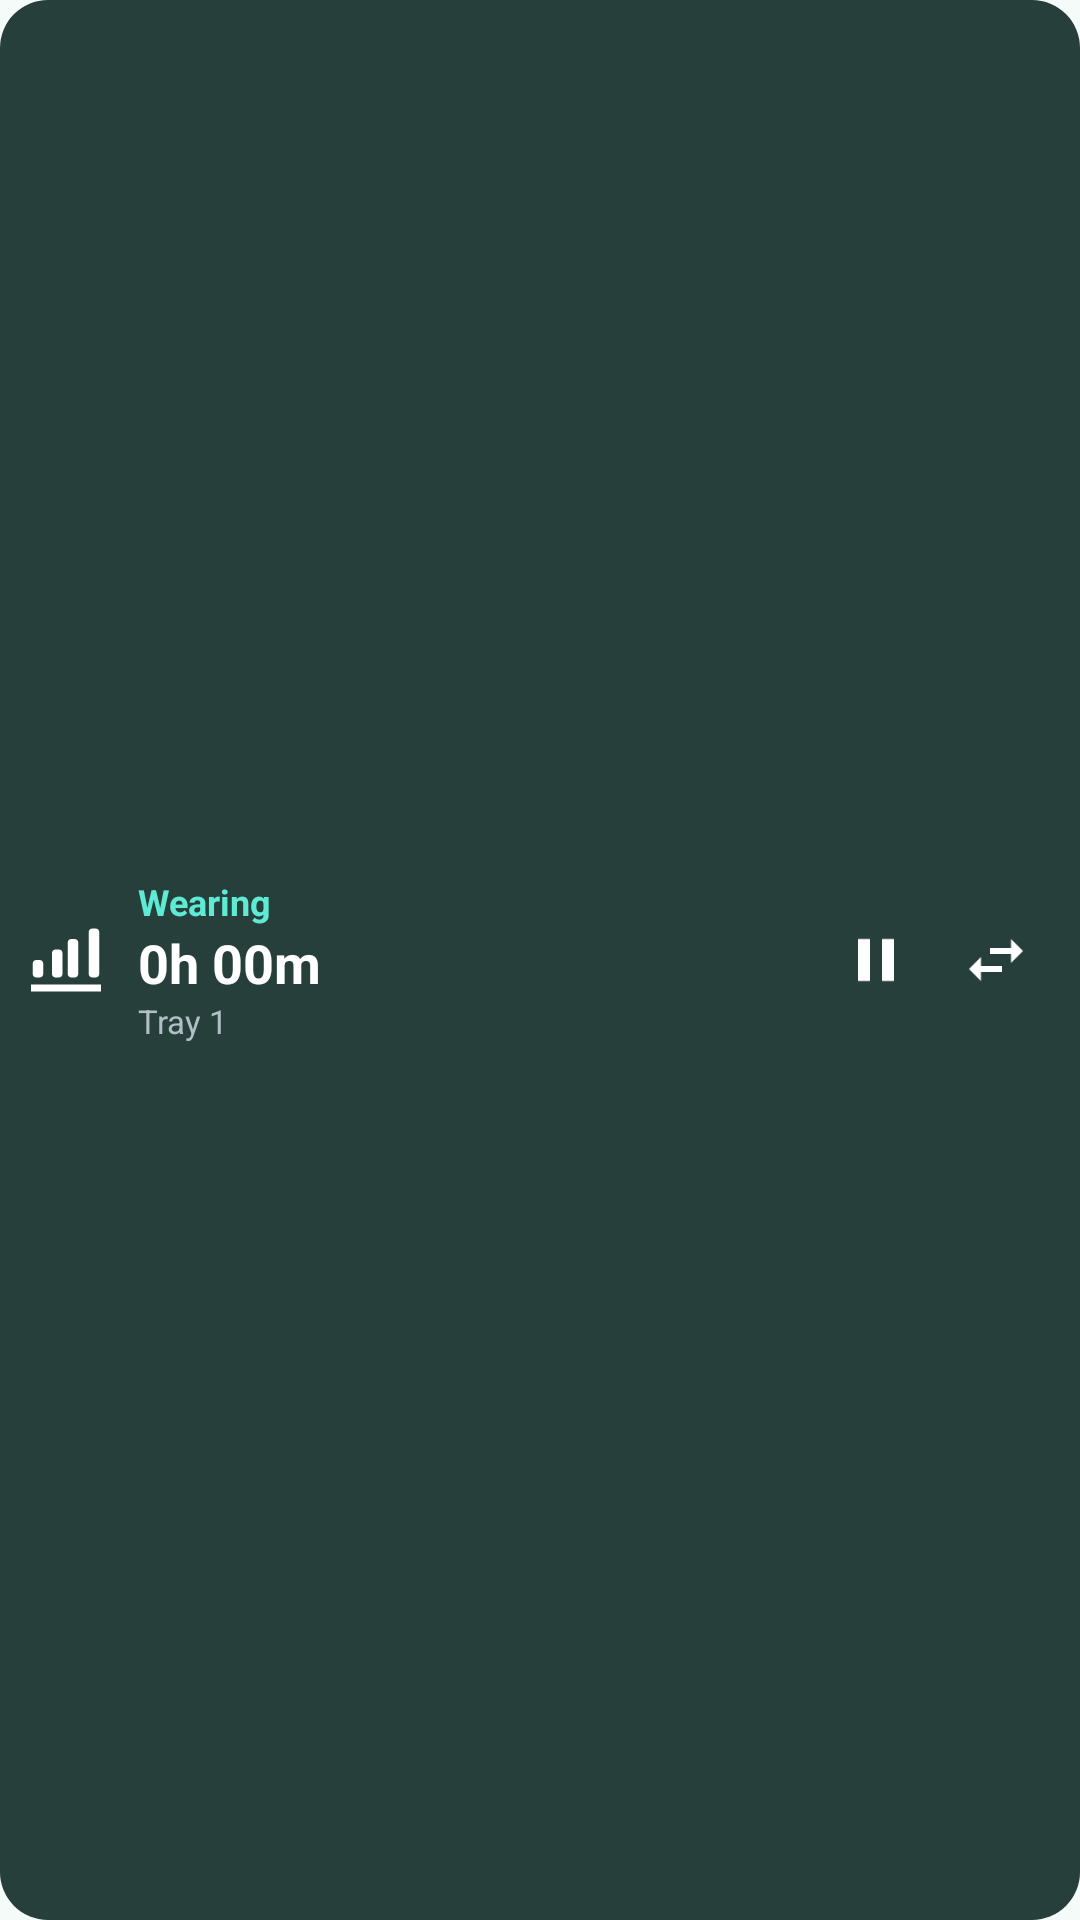

Named icons in this screenshot (1080w x 1920h) and their bounding boxes, bbox=(x1, y1, x2, y2):
Change tray: bbox=(969, 939, 1023, 981)
Start or pause the timer: bbox=(858, 938, 894, 982)
